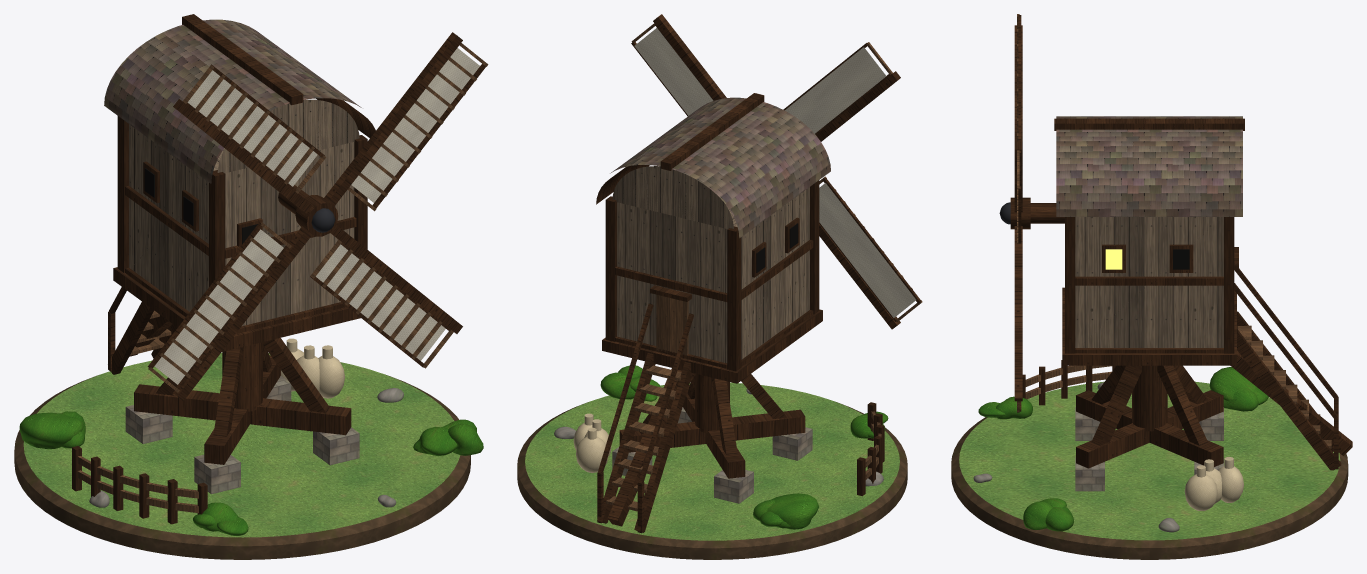
Rendered from wiatrak.glb.
The picture shows the model from 3 angles, left to right: view 1: azimuth 30°, elevation 25°; view 2: azimuth 150°, elevation 25°; view 3: azimuth 270°, elevation 25°; orthographic projection. The views are drawn at different scales.
Parts seen in each view (by area): view 1: wiatrak, smigla; view 2: wiatrak, smigla; view 3: wiatrak, smigla.
Boxes of the visible parts, x1,y1,x2,y2 form: wiatrak: [14, 14, 483, 559]; smigla: [147, 32, 488, 400]; wiatrak: [517, 93, 907, 559]; smigla: [631, 14, 922, 329]; wiatrak: [951, 116, 1352, 559]; smigla: [999, 14, 1030, 412].
Size of the model in its own units: 1 by 1.16 by 1.01.
14 materials, 12 textured.
